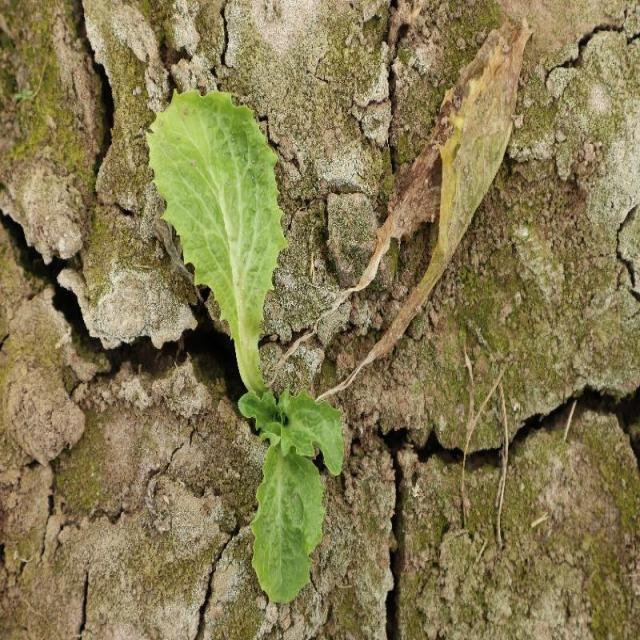crop: (145, 87, 348, 608)
